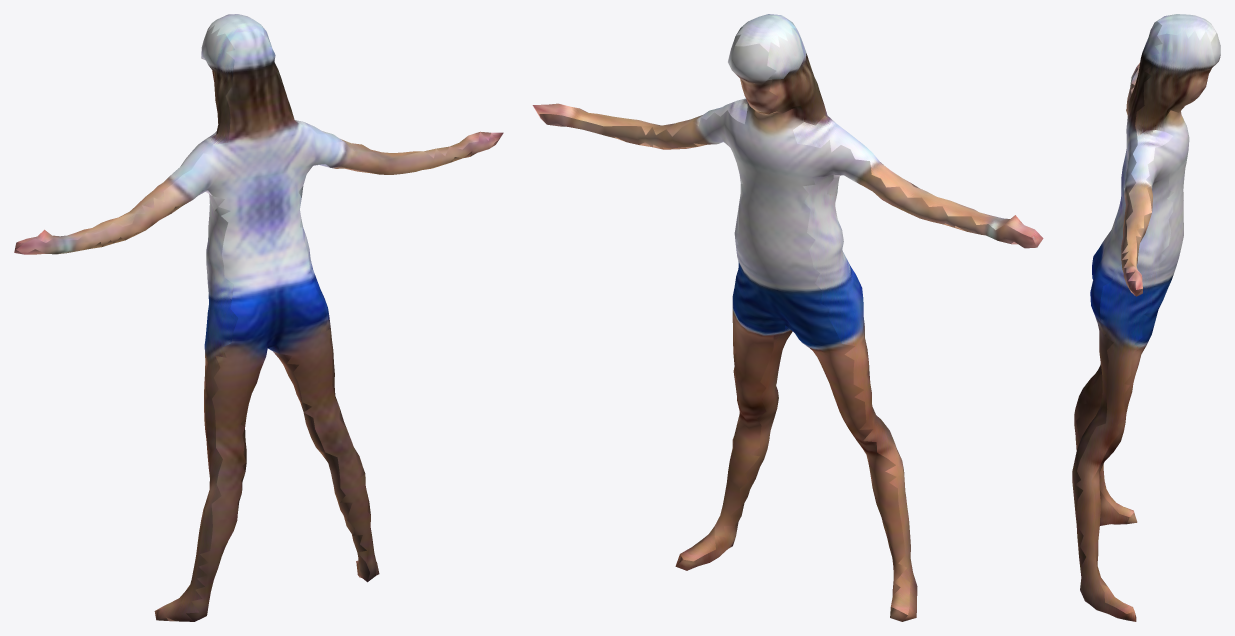
The picture shows the model from 3 angles, left to right: view 1: azimuth 30°, elevation 25°; view 2: azimuth 150°, elevation 25°; view 3: azimuth 270°, elevation 25°; orthographic projection. The views are drawn at different scales.
Parts seen in each view (by area): view 1: world; view 2: world; view 3: world.
Boxes of the visible parts, bbox=[...] form: world: bbox=[14, 14, 503, 621]; world: bbox=[532, 14, 1043, 621]; world: bbox=[1072, 14, 1220, 621].
Bounding box in the file's own units: 0.9164 × 1.01 × 0.2454.
1 material, 1 textured.
